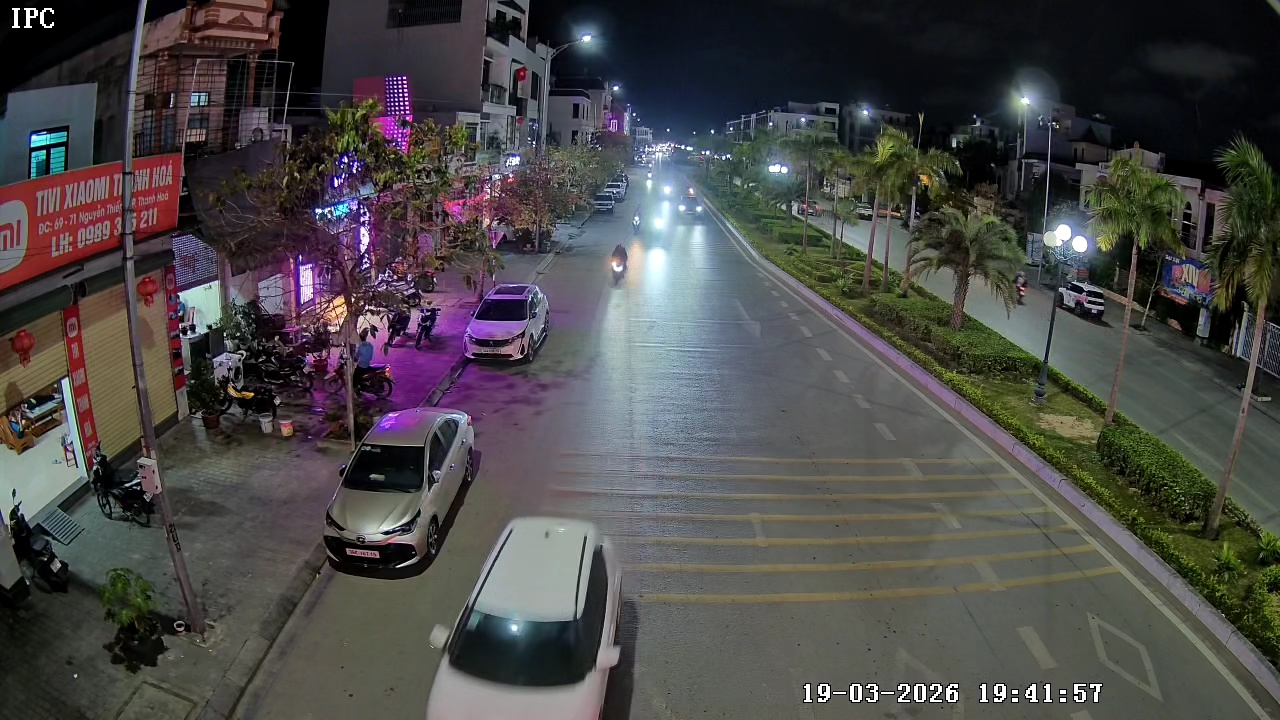car: (424, 515, 640, 719), (323, 406, 482, 576), (464, 281, 552, 364), (676, 197, 709, 225)
motorbike: (608, 242, 629, 286), (629, 206, 647, 236)
